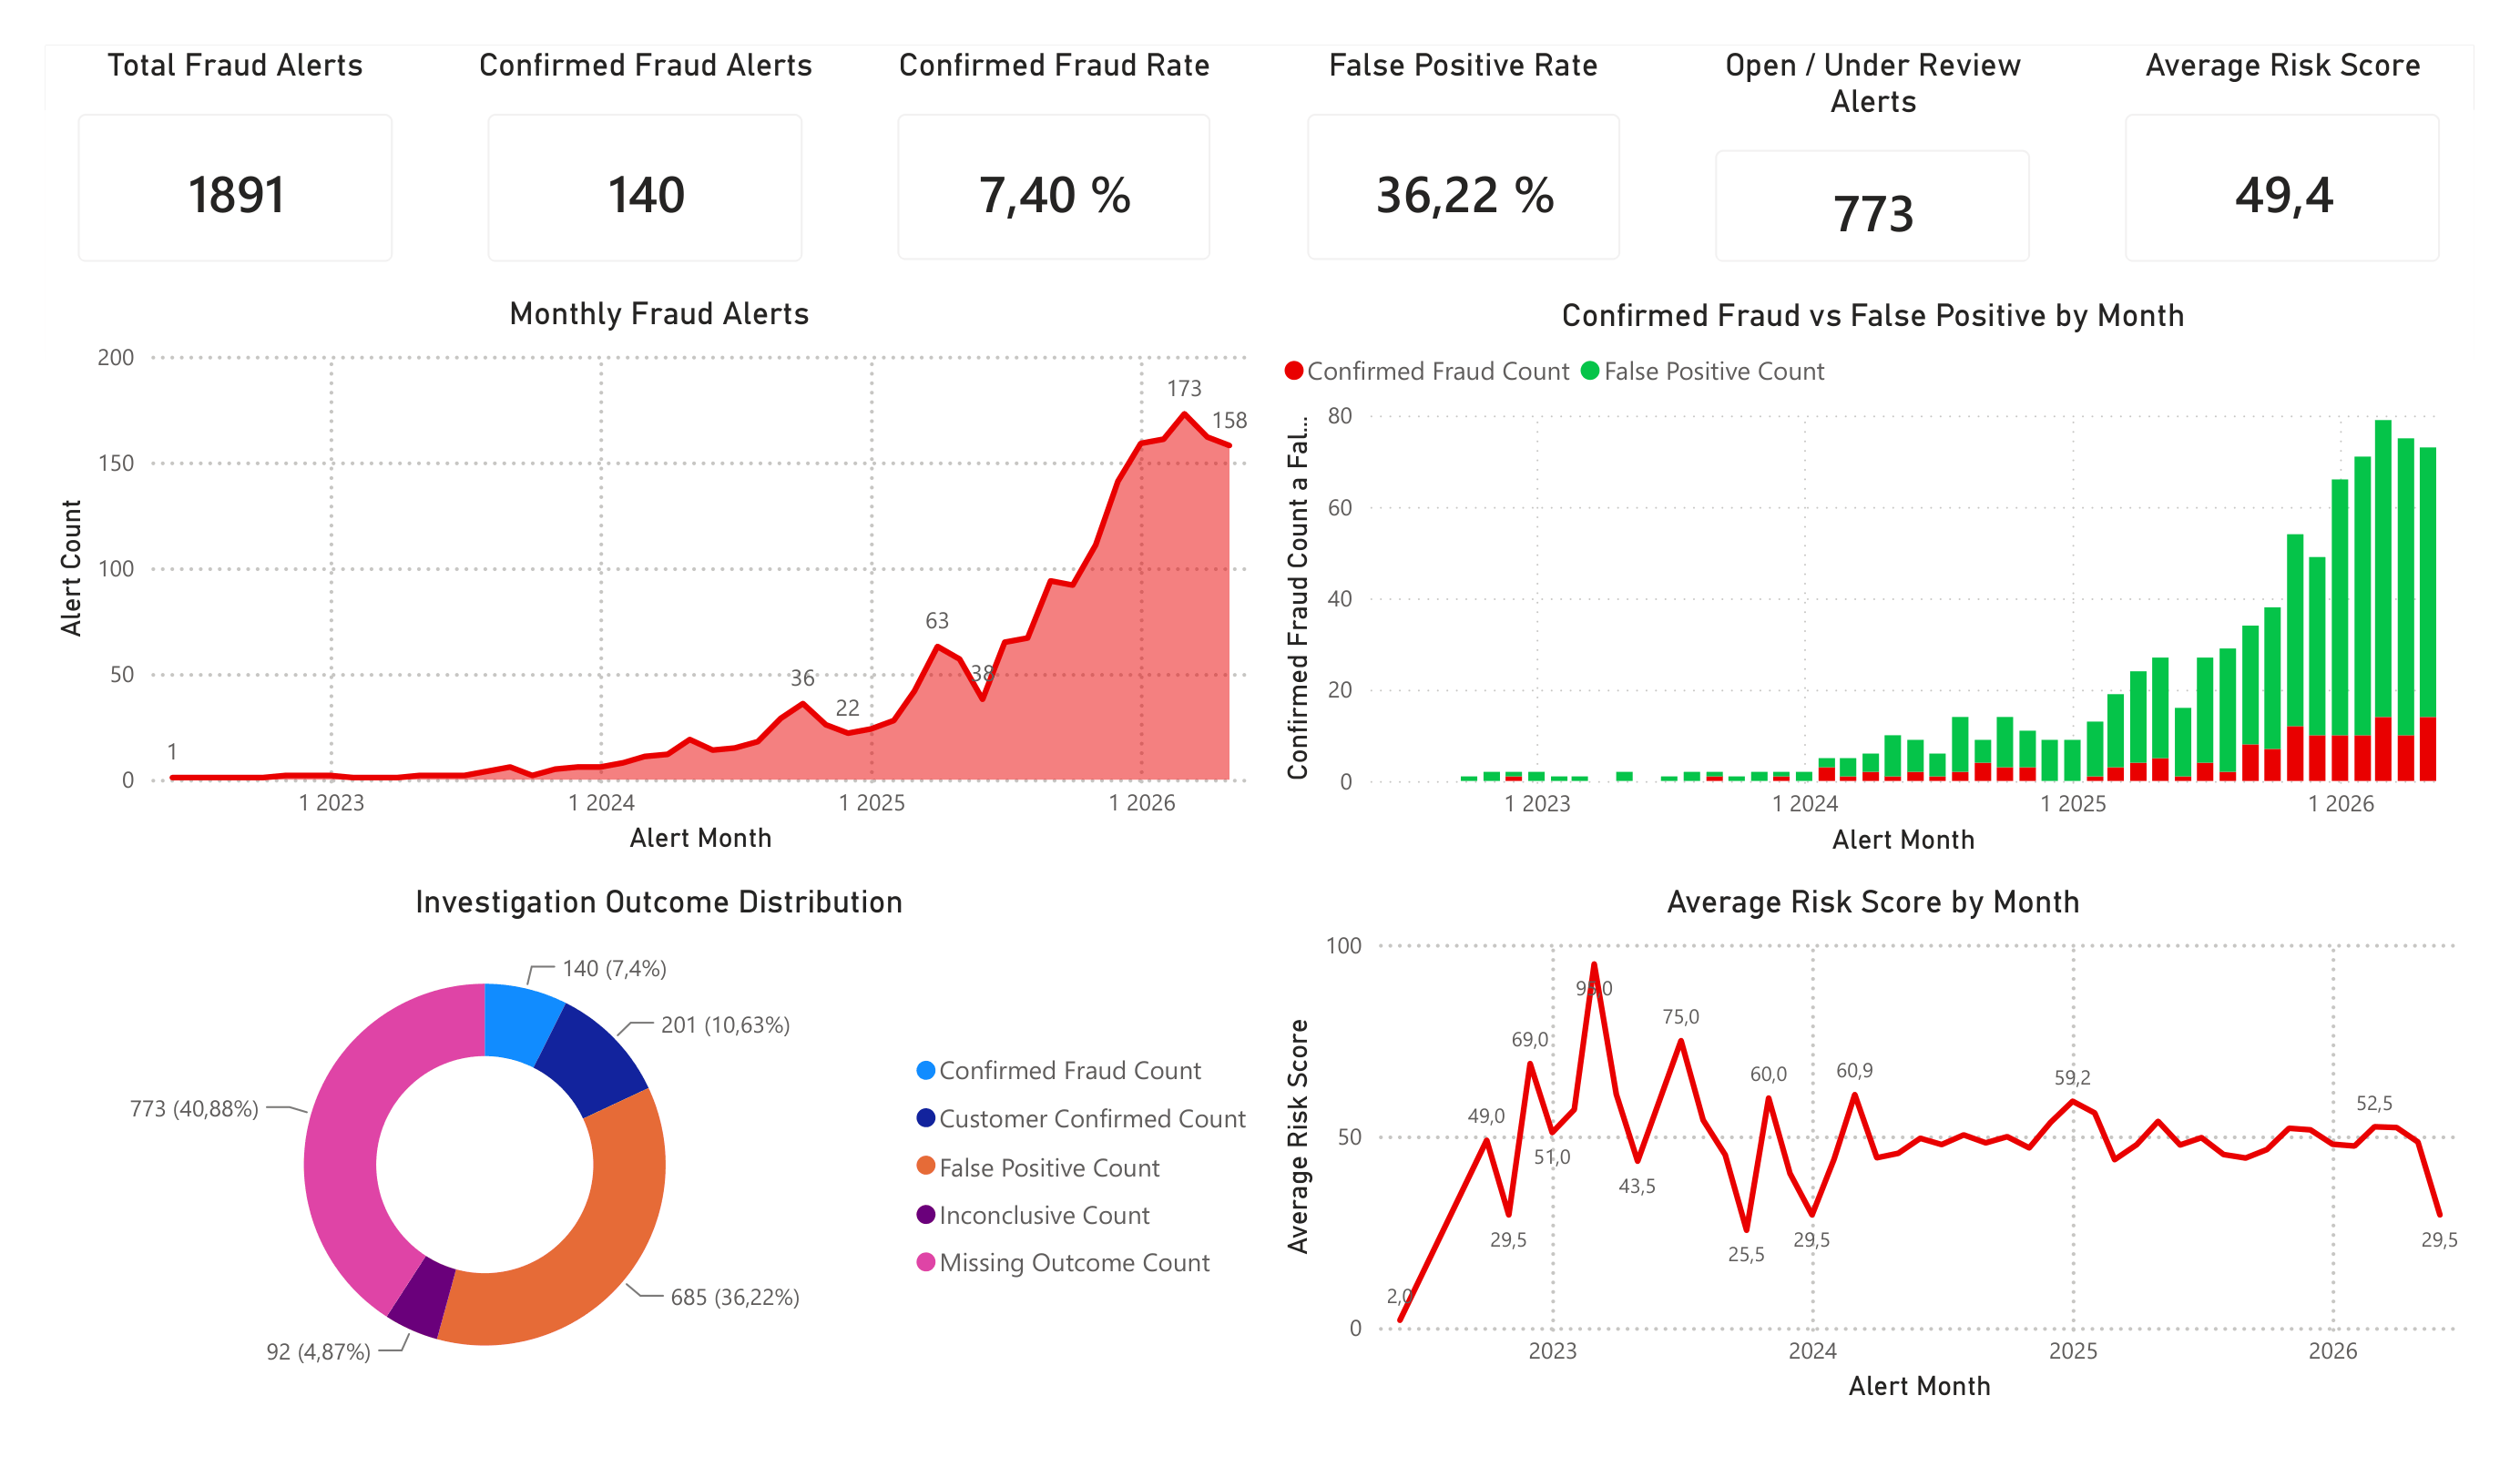

What the dashboard file says about the page in this screenshot:
{"tool":"powerbi","page":{"name":"Fraud & Data Quality Monitoring ","canvas":[1280,720],"ordinal":4},"visuals":[{"type":"cardVisual","title":"Total Fraud Alerts","fields":{"Data":["Sum(fraud_monitoring_summary.alert_count)"]},"box":[0,0,200.3,131.7],"z":0},{"type":"cardVisual","title":"Confirmed Fraud Alerts","fields":{"Data":["Sum(fraud_monitoring_summary.confirmed_fraud_count)"]},"box":[215.9,0,201,132.2],"z":1},{"type":"cardVisual","title":"Confirmed Fraud Rate","fields":{"Data":["_Measures.Confirmed Fraud Rate"]},"box":[432.4,0,199.6,130.8],"z":2},{"type":"cardVisual","title":"False Positive Rate","fields":{"Data":["_Measures.False Positive Rate1"]},"box":[647.6,0,199.6,130.8],"z":3},{"type":"cardVisual","title":"Open / Under Review Alerts","fields":{"Data":["_Measures.Open / Under Review Alerts"]},"box":[862.8,0,201,132.2],"z":4},{"type":"cardVisual","title":"Average Risk Score","fields":{"Data":["_Measures.Average Risk Score"]},"box":[1079,0,201,132.2],"z":5},{"type":"lineChart","title":"Monthly Fraud Alerts","fields":{"Y":["Sum(fraud_monitoring_summary.alert_count)"],"Category":["fraud_monitoring_summary.alert_month"]},"box":[0,130.8,647,300.1],"z":6},{"type":"columnChart","title":"Confirmed Fraud vs False Positive by Month","fields":{"Y":["Sum(fraud_monitoring_summary.confirmed_fraud_count)","Sum(fraud_monitoring_summary.false_positive_count)"],"Category":["fraud_monitoring_summary.alert_month"]},"box":[647,132.2,633.3,298.7],"z":7},{"type":"donutChart","title":"Investigation Outcome Distribution","fields":{"Y":["Sum(fraud_monitoring_summary.confirmed_fraud_count)","Sum(fraud_monitoring_summary.customer_confirmed_count)","Sum(fraud_monitoring_summary.false_positive_count)","Sum(fraud_monitoring_summary.inconclusive_count)","Sum(fraud_monitoring_summary.missing_outcome_count)"]},"box":[0,441,647,279],"z":8},{"type":"lineChart","title":"Average Risk Score by Month","fields":{"Category":["fraud_monitoring_summary.alert_month"],"Y":["_Measures.Average Risk Score"]},"box":[647,441,633,279],"z":9}]}

Visuals, with their boxes on the page's 1280x720 design canvas (x1, y1, x2, y2). These are canvas units, not pixel positions in the 2520x1457 screenshot, which may show the page scaled, cropped or inside an application window:
"Total Fraud Alerts" cardVisual: <bbox>0, 0, 200, 132</bbox>
"Confirmed Fraud Alerts" cardVisual: <bbox>216, 0, 417, 132</bbox>
"Confirmed Fraud Rate" cardVisual: <bbox>432, 0, 632, 131</bbox>
"False Positive Rate" cardVisual: <bbox>648, 0, 847, 131</bbox>
"Open / Under Review Alerts" cardVisual: <bbox>863, 0, 1064, 132</bbox>
"Average Risk Score" cardVisual: <bbox>1079, 0, 1280, 132</bbox>
"Monthly Fraud Alerts" lineChart: <bbox>0, 131, 647, 431</bbox>
"Confirmed Fraud vs False Positive by Month" columnChart: <bbox>647, 132, 1280, 431</bbox>
"Investigation Outcome Distribution" donutChart: <bbox>0, 441, 647, 720</bbox>
"Average Risk Score by Month" lineChart: <bbox>647, 441, 1280, 720</bbox>
